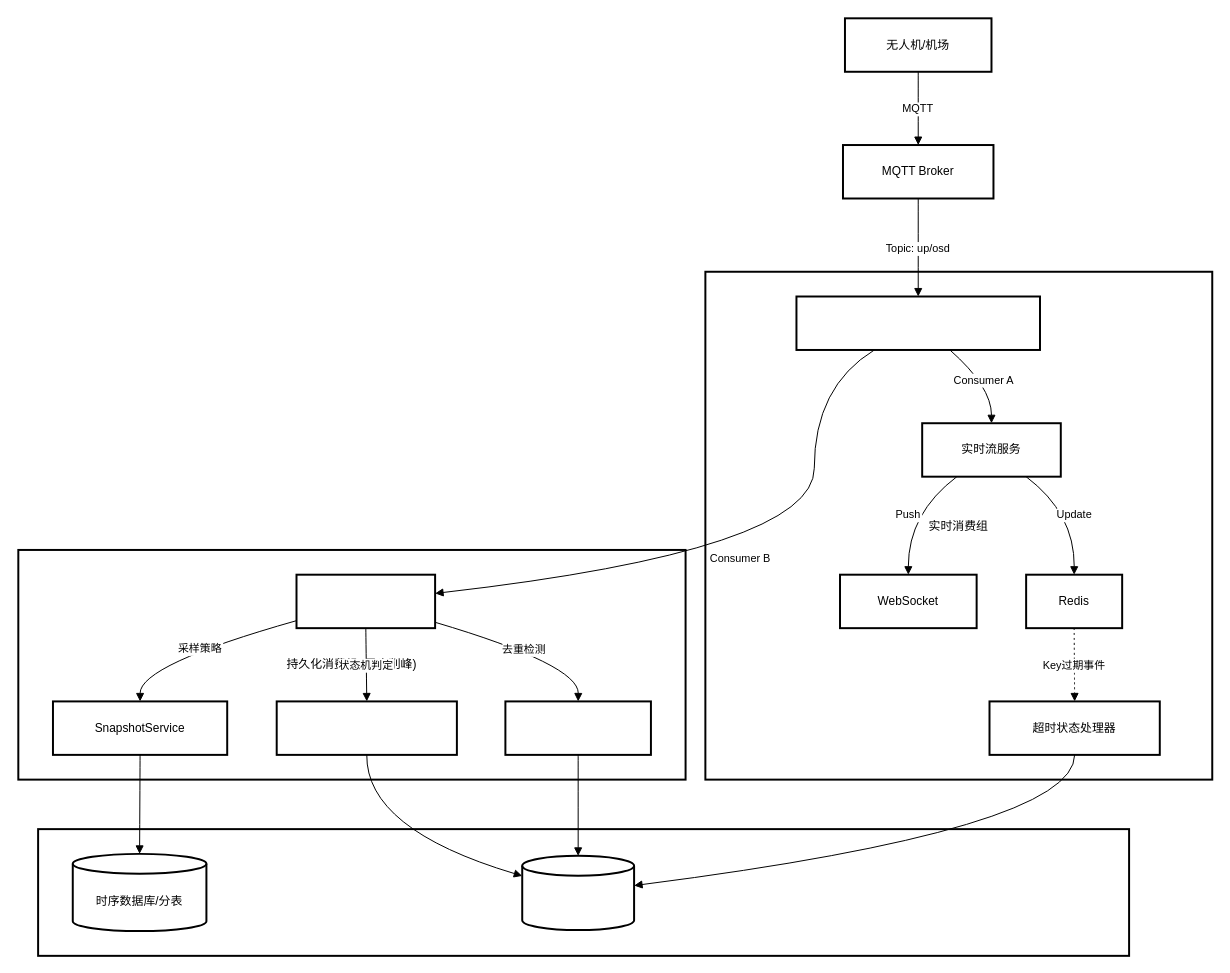
This 1230x973 diagram has some shape labels left out. The shapes that lost their labels are listed below. From the top down, each one's centre as x and y in pixels, then its label:
At point 917,322: "消息队列 Kafka/RabbitMQ".
At point 365,601: "持久化服务".
At point 366,727: "FlyRecordService".
At point 577,727: "AlertService".
At point 578,892: "MySQL 业务库".
